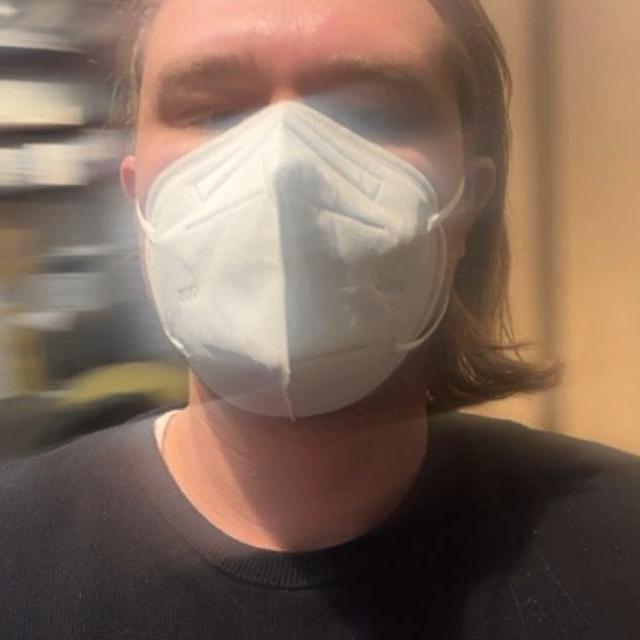Mask: (137, 109, 465, 417)
NO-Hardhat: (133, 0, 458, 32)
NO-Safety Vest: (0, 433, 640, 640)
Person: (0, 0, 640, 640)
